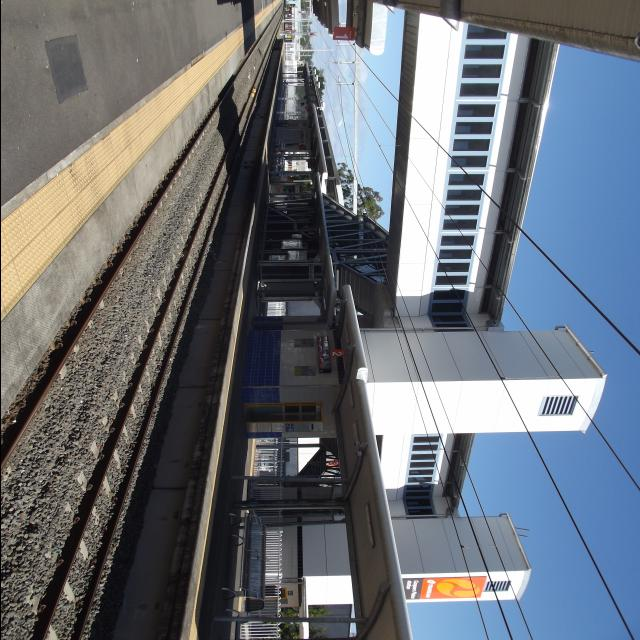tactile-guide-path: (1, 24, 243, 323)
